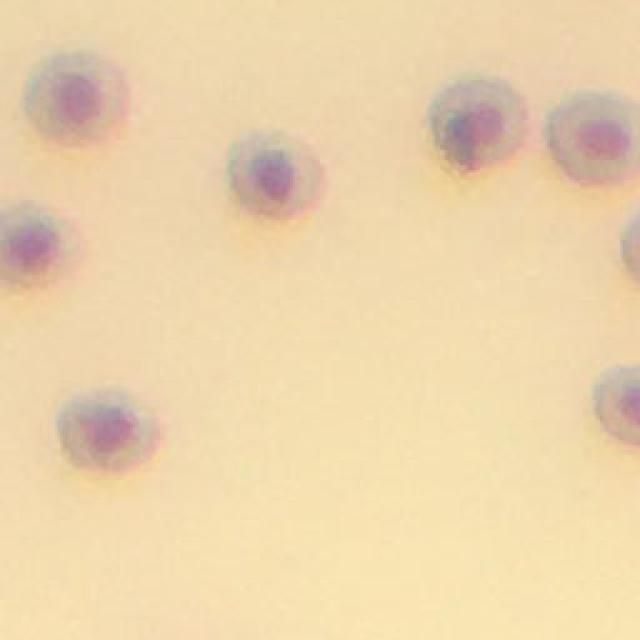RBC: (27, 55, 132, 152), (426, 81, 529, 171), (60, 389, 167, 472), (547, 94, 640, 184), (228, 131, 324, 218), (0, 204, 73, 286), (591, 364, 640, 442)
